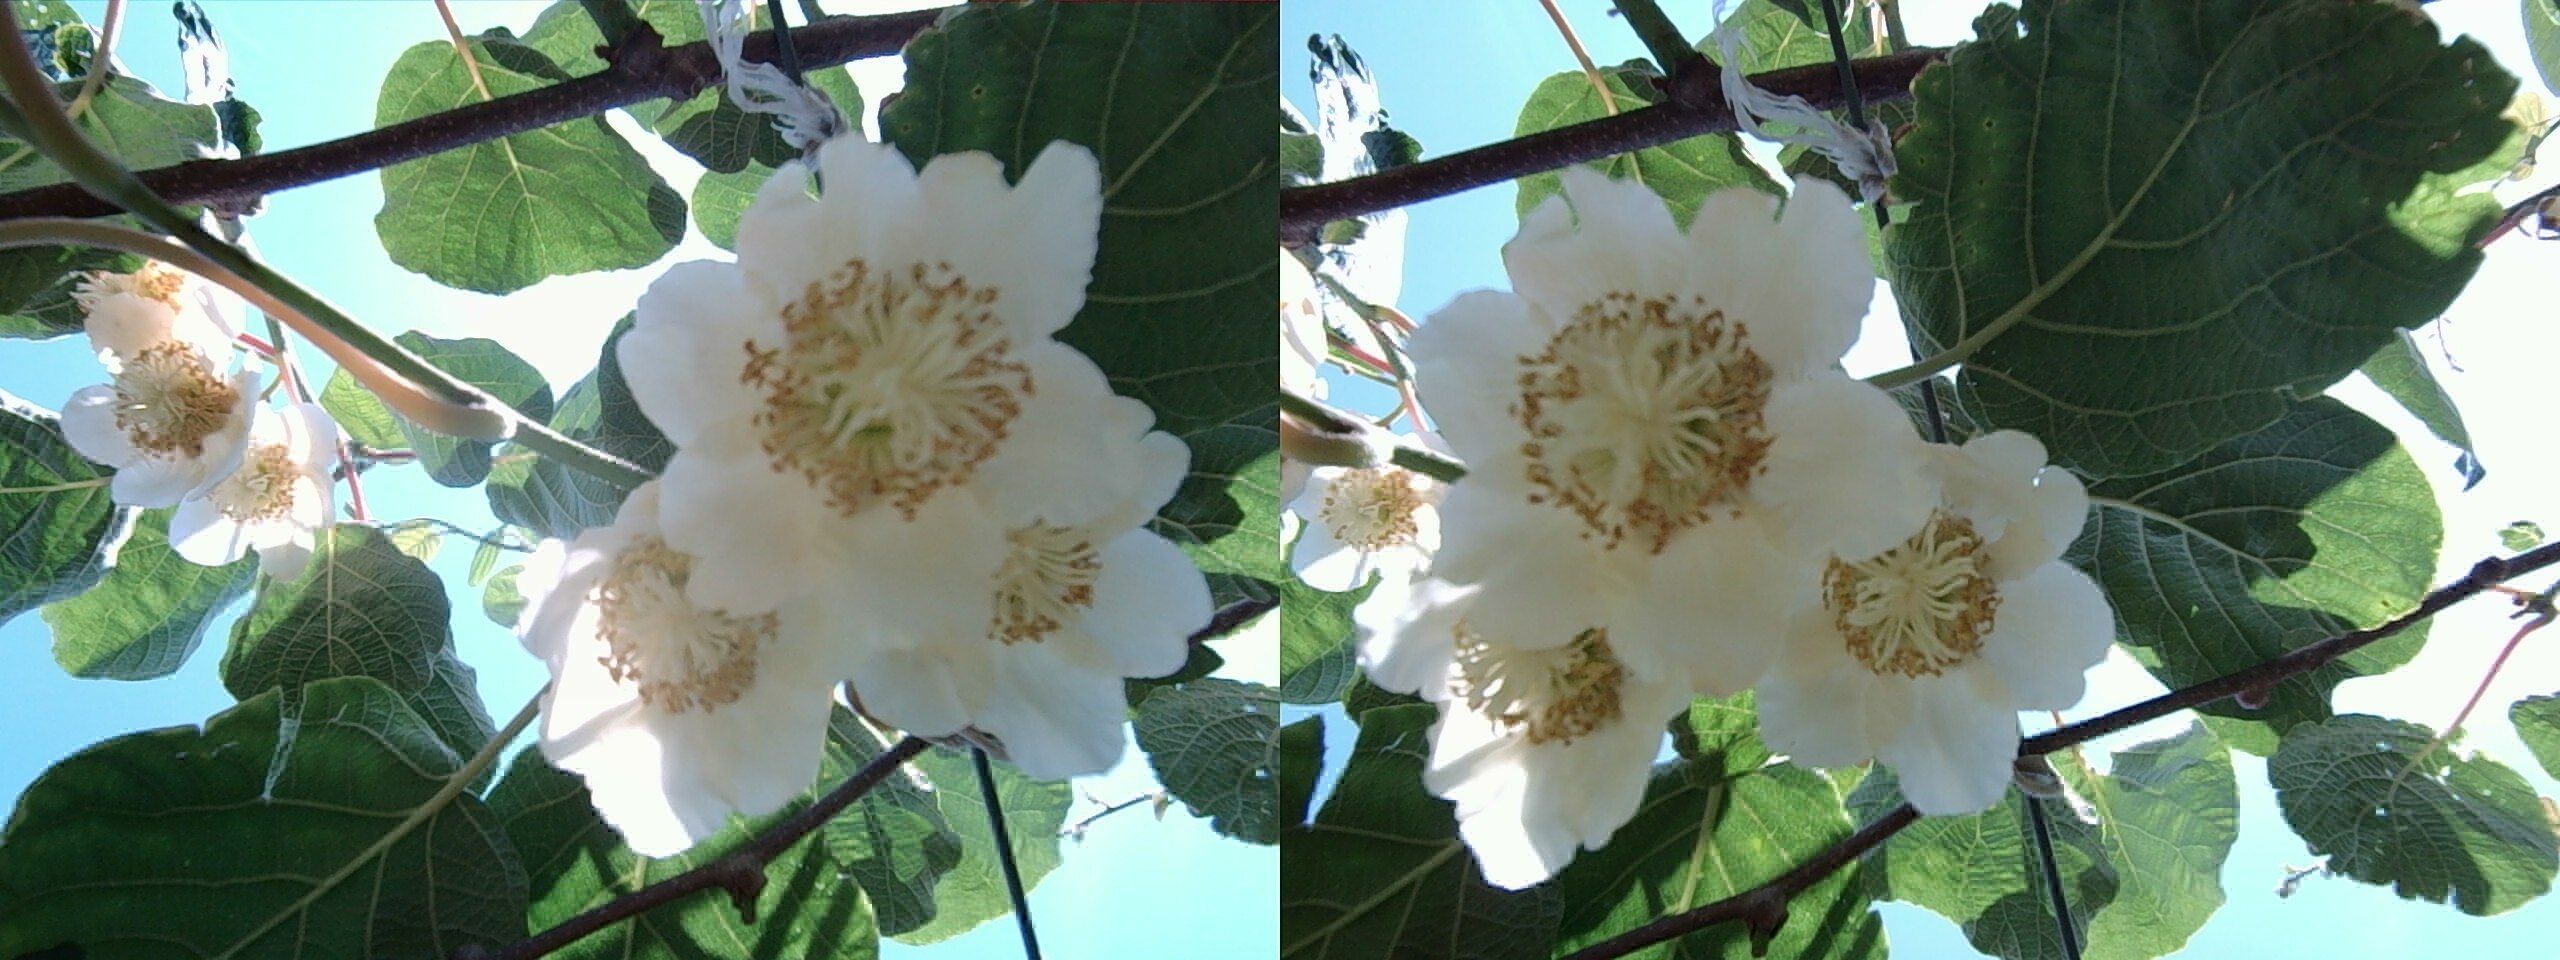flower: (1745, 410, 2104, 784), (522, 473, 860, 831), (694, 193, 1051, 509), (1469, 224, 1806, 557), (795, 473, 1198, 727), (1394, 562, 1700, 878), (47, 274, 268, 514), (1277, 439, 1461, 594), (175, 398, 338, 567)
